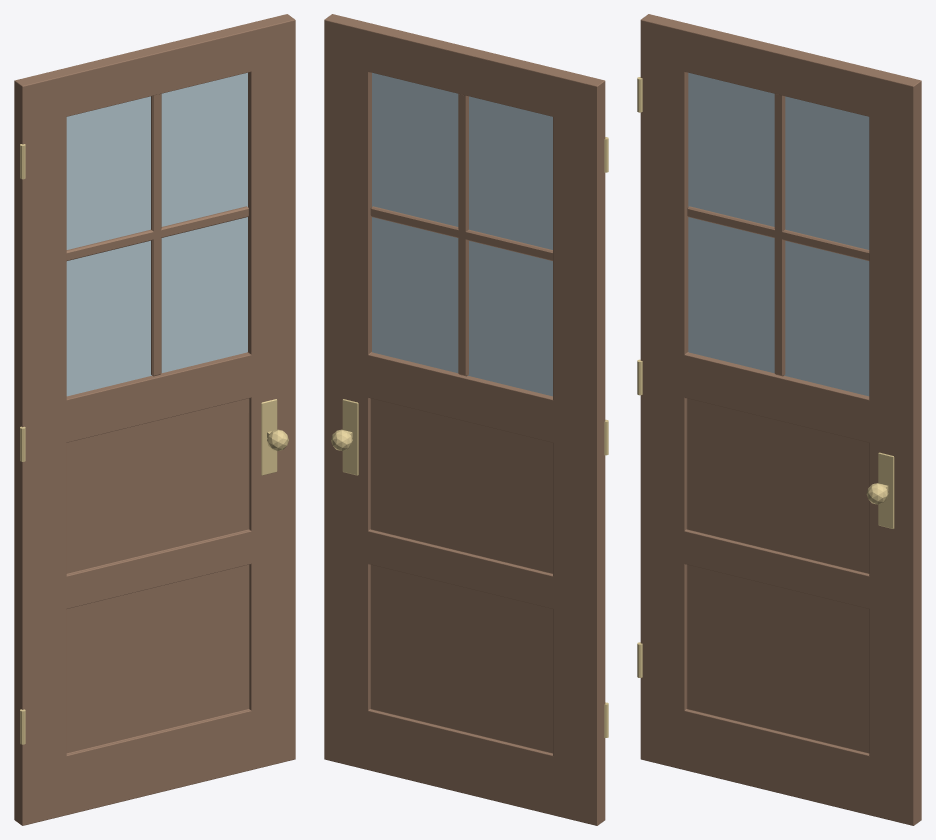
The model's file is door_leaf_back.glb.
3 views of the same model, side by side, from view 1: azimuth 30°, elevation 25°; view 2: azimuth 150°, elevation 25°; view 3: azimuth 330°, elevation 25° (orthographic).
Parts seen in each view (by area): view 1: door_leaf_back_door, door_leaf_back_glass, door_leaf_back_brass; view 2: door_leaf_back_door, door_leaf_back_glass, door_leaf_back_brass; view 3: door_leaf_back_door, door_leaf_back_glass, door_leaf_back_brass.
Boxes of the visible parts, x1,y1,x2,y2 form: door_leaf_back_door: (14,14,295,825); door_leaf_back_glass: (66,72,247,396); door_leaf_back_brass: (20,144,288,744); door_leaf_back_door: (324,14,605,825); door_leaf_back_glass: (372,72,552,396); door_leaf_back_brass: (331,137,608,737); door_leaf_back_door: (640,14,921,825); door_leaf_back_glass: (688,72,869,396); door_leaf_back_brass: (637,77,894,677).
Bounding box in the file's own units: 0.868 × 2.22 × 0.205.
